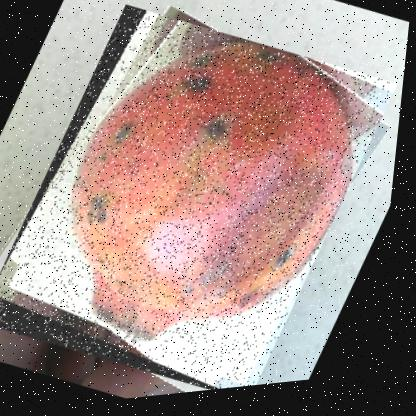pomegranate_rotten: (0, 0, 408, 414)
